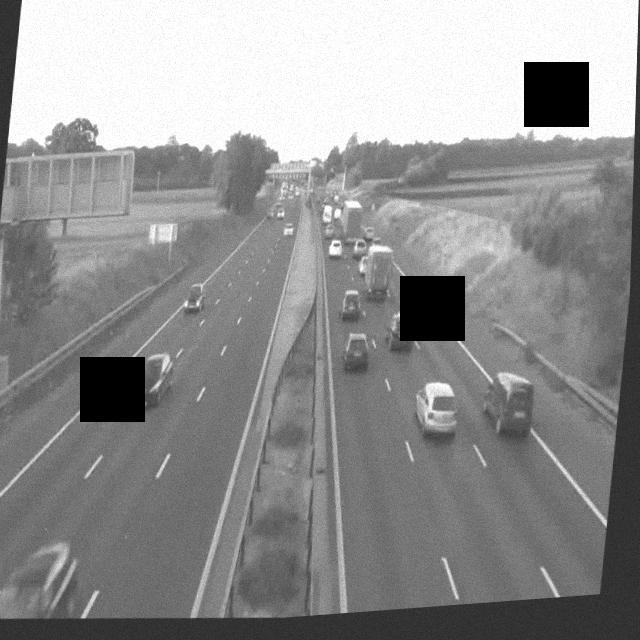car: (0, 536, 82, 624), (480, 369, 536, 438), (411, 378, 462, 439), (131, 350, 175, 410), (383, 310, 415, 353), (340, 330, 371, 371), (340, 288, 363, 320), (183, 281, 206, 312), (404, 284, 429, 312), (329, 238, 343, 259), (351, 238, 365, 258), (363, 229, 377, 246), (324, 225, 337, 240), (283, 221, 294, 237), (269, 205, 279, 219)
truck: (361, 242, 395, 299), (341, 199, 365, 242)
